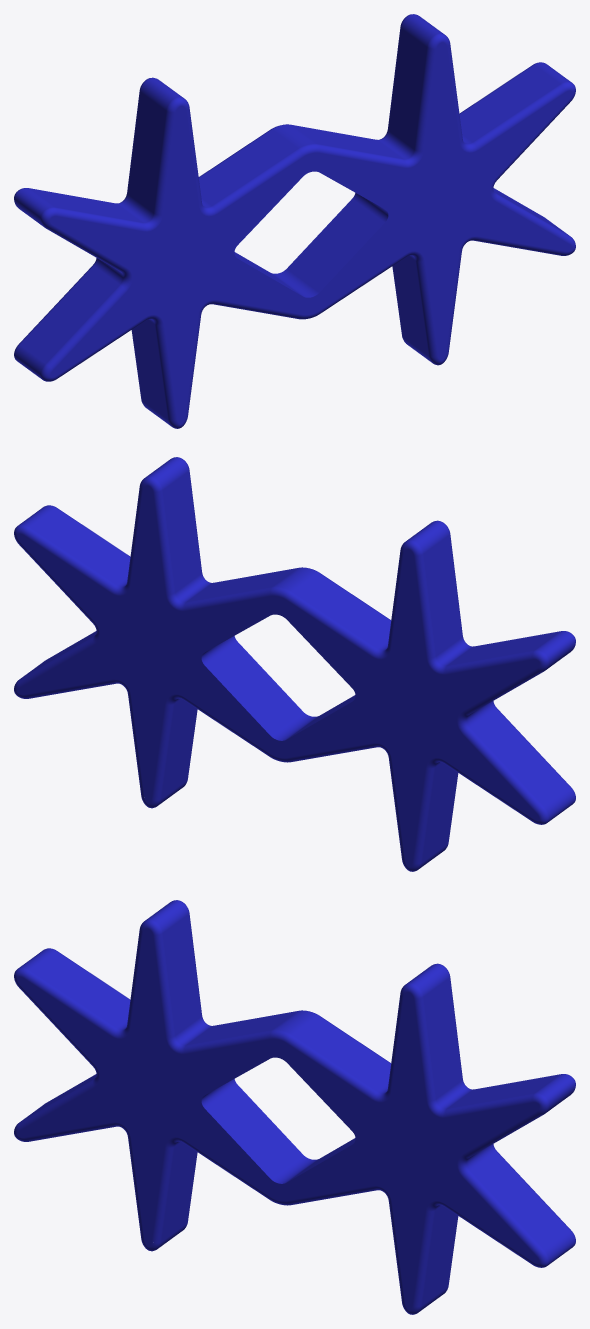
The model's file is ARENA.gltf.
3 views of the same model, one above another, from view 1: azimuth 30°, elevation 25°; view 2: azimuth 150°, elevation 25°; view 3: azimuth 330°, elevation 25° (orthographic).
Size of the model in its own units: 1.93 by 1.14 by 0.2052.
